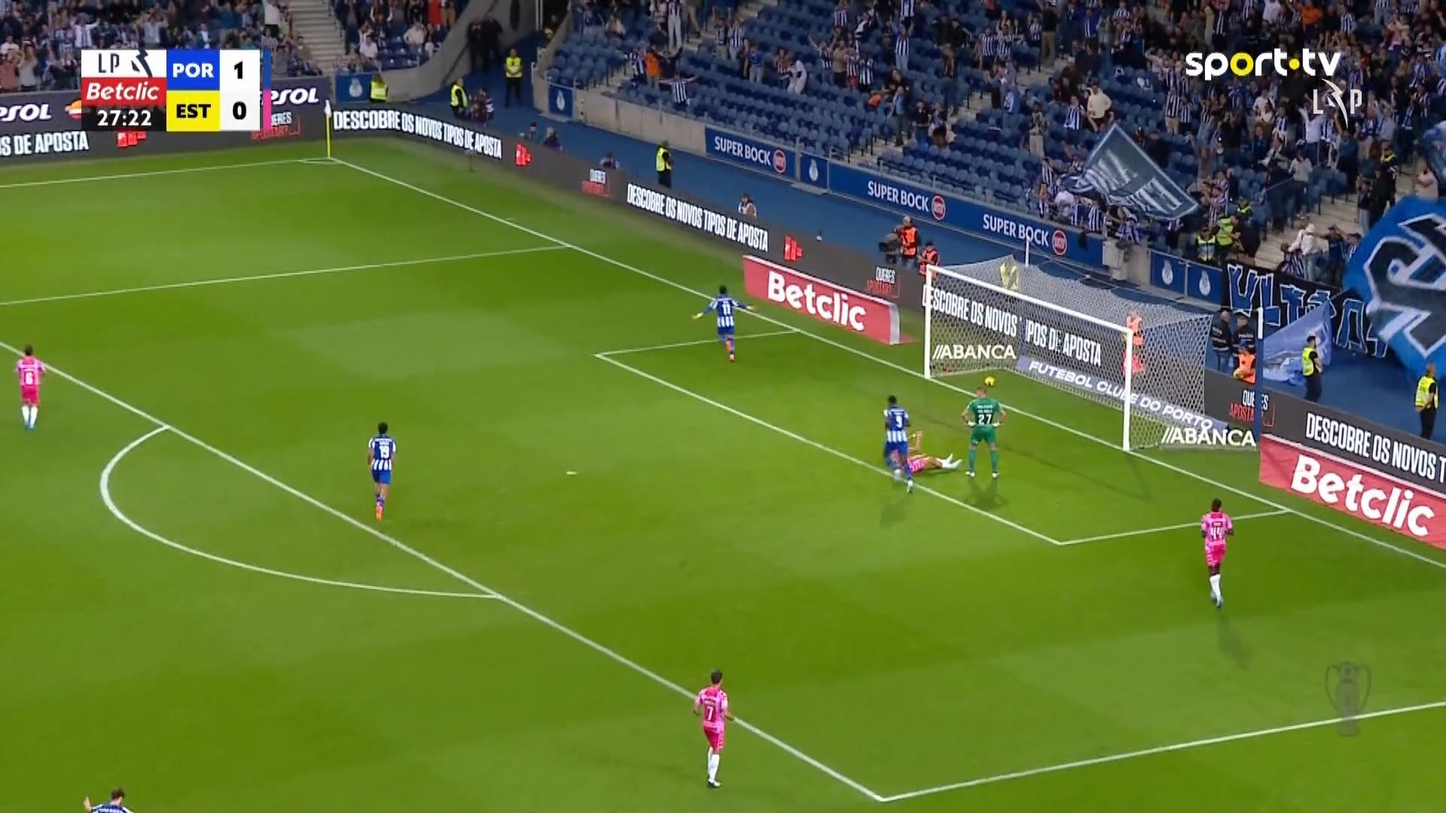ball: (984, 376, 995, 387)
goalkeeper: (901, 451, 962, 473)
player: (691, 283, 755, 362), (692, 668, 734, 787), (960, 385, 1005, 478), (1199, 497, 1234, 608), (881, 394, 916, 493), (886, 430, 962, 474), (365, 420, 396, 520), (14, 343, 47, 430), (82, 787, 134, 811)
